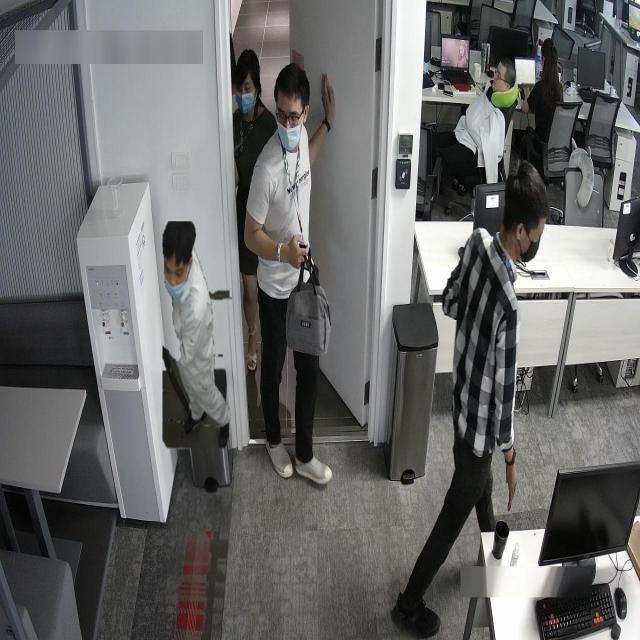hairnet: (160, 243, 190, 297)
